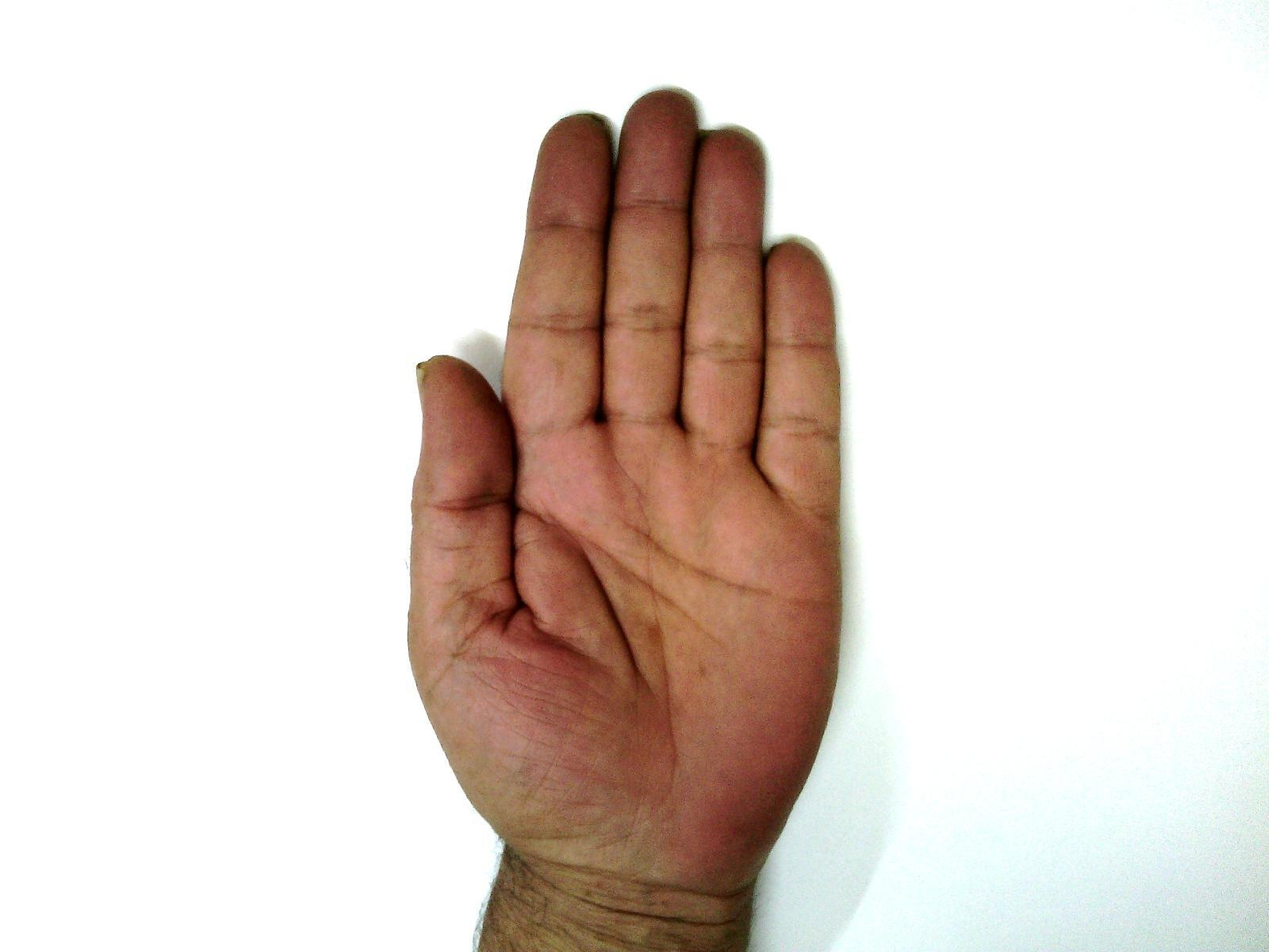open_palm: (404, 87, 849, 900)
